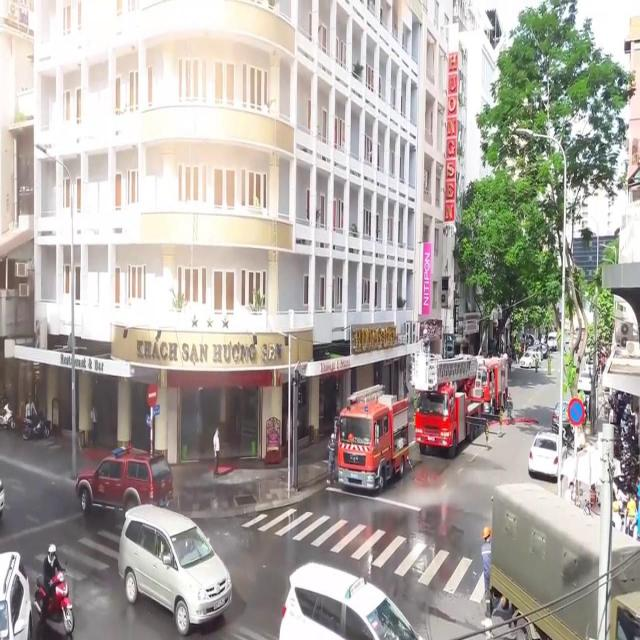bus: (412, 359, 483, 452)
car: (119, 503, 232, 637), (278, 558, 424, 640), (76, 447, 172, 517), (0, 550, 32, 640), (528, 428, 566, 482), (552, 399, 572, 434)
motorcycle: (34, 541, 76, 634)
truck: (489, 481, 640, 640), (335, 382, 409, 490), (468, 352, 508, 417)
